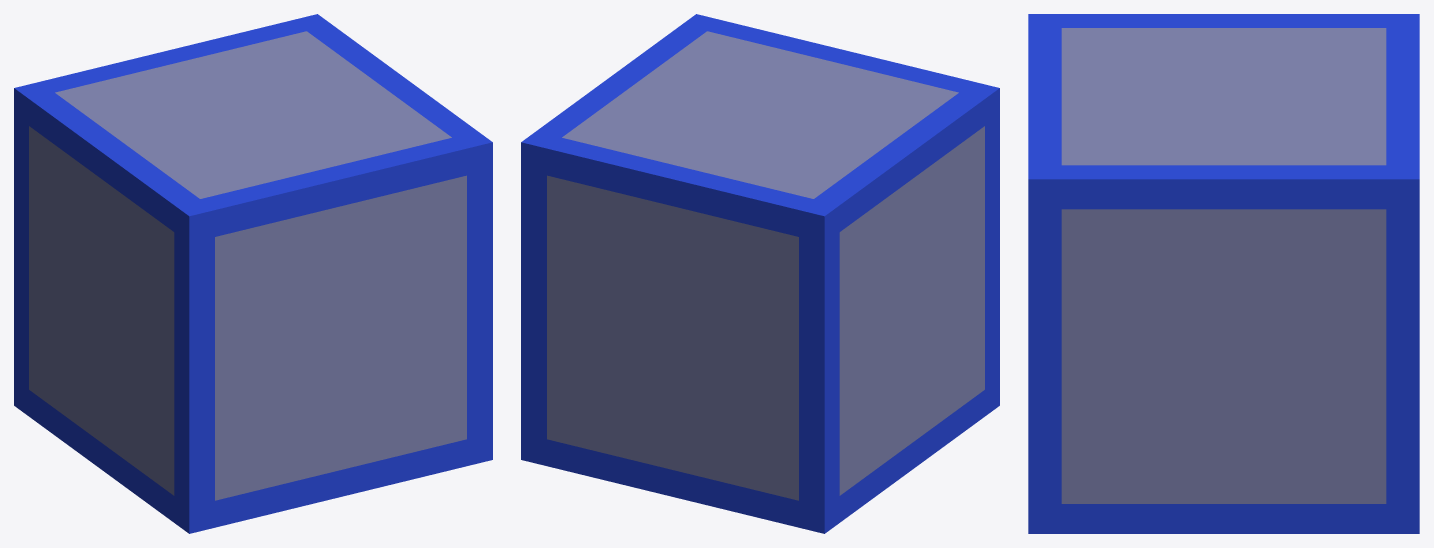
The picture shows the model from 3 angles, left to right: view 1: azimuth 30°, elevation 25°; view 2: azimuth 150°, elevation 25°; view 3: azimuth 270°, elevation 25°; orthographic projection. The views are drawn at different scales.
Visible parts, largest first — view 1: Cube; view 2: Cube; view 3: Cube.
Boxes of the visible parts, x1,y1,x2,y2 form: Cube: (14, 14, 492, 533); Cube: (521, 14, 999, 533); Cube: (1028, 14, 1419, 533).
Size of the model in its own units: 1 by 1 by 1.
